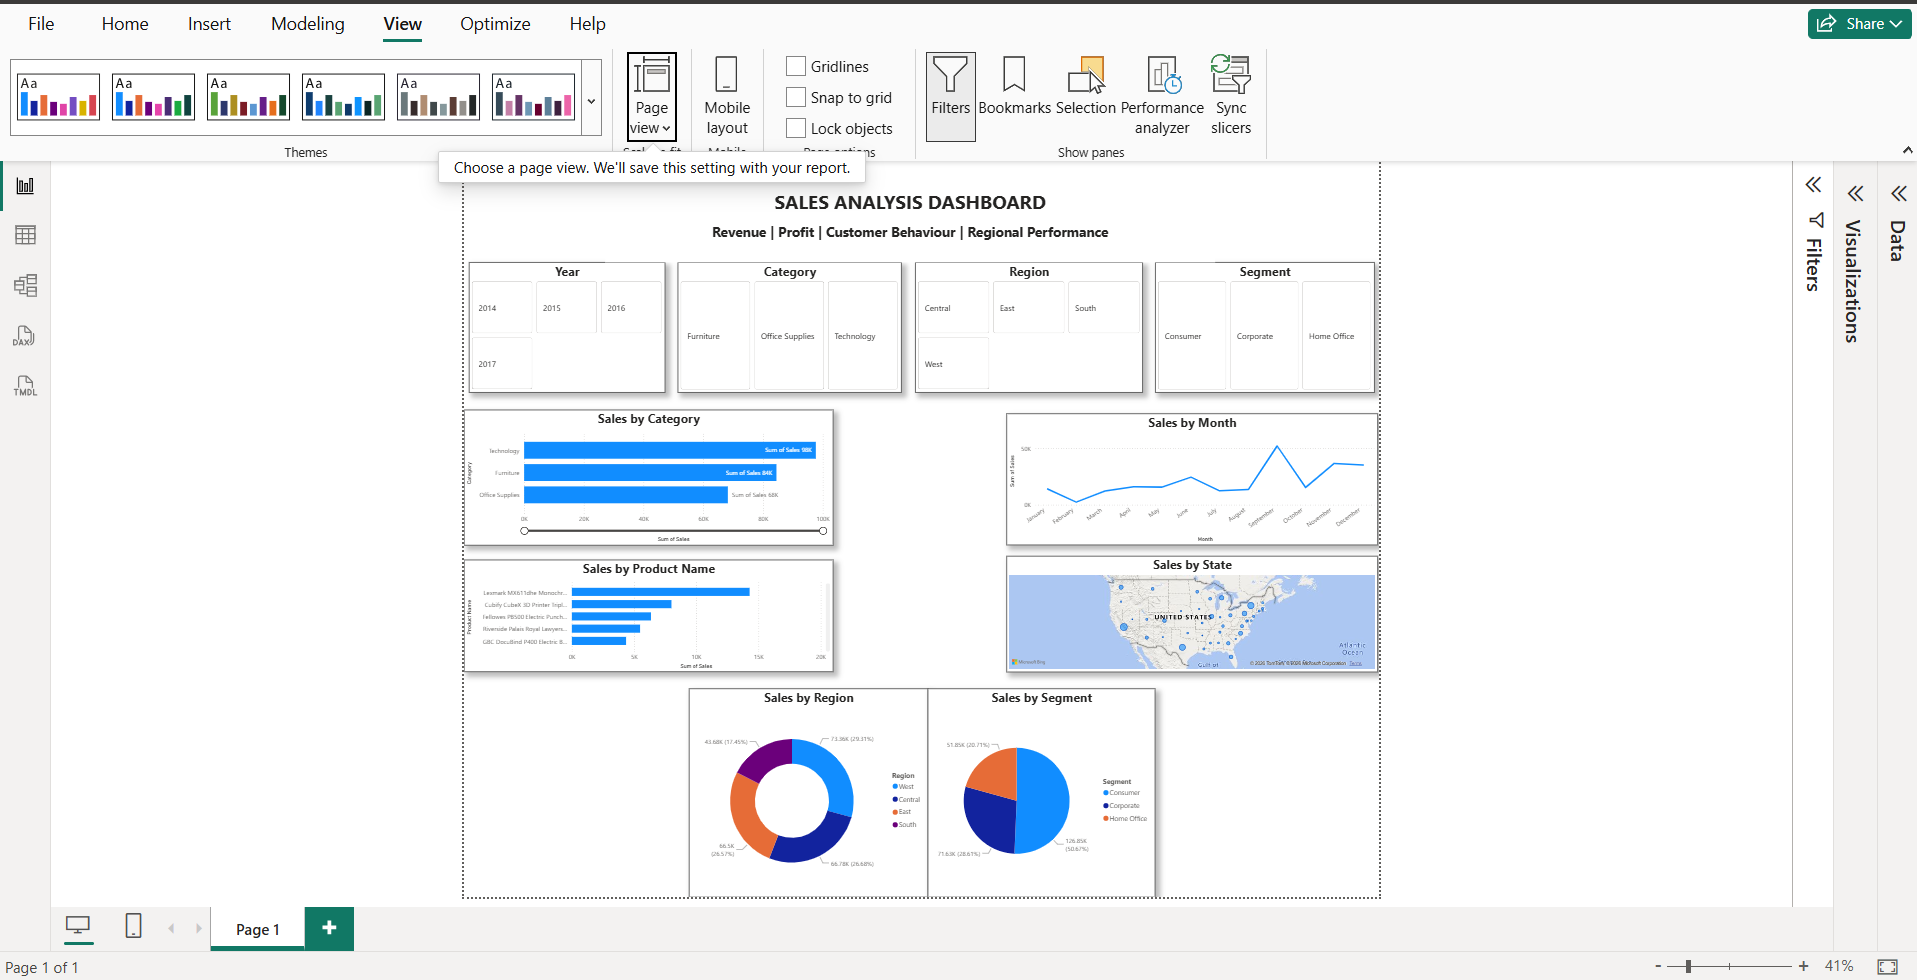

The dashboard page shown, as its layout file describes it:
{"tool":"powerbi","page":{"name":"Page 1","canvas":[1800,1400],"ordinal":0},"visuals":[{"type":"lineChart","title":"Sales by Month","fields":{"Category":["Clean_Orders.Month"],"Y":["Sum(Clean_Orders.Sales)"]},"box":[1069,449,731,259],"z":0},{"type":"clusteredBarChart","title":"Sales by Category","fields":{"Category":["Clean_Orders.Category"],"Y":["Sum(Clean_Orders.Sales)"]},"box":[0,441,727,267],"z":1000},{"type":"donutChart","title":"Sales by Region","fields":{"Category":["Clean_Orders.Region"],"Y":["Sum(Clean_Orders.Sales)"]},"box":[442,989,471,411],"z":3000},{"type":"barChart","title":"Sales by Product Name","fields":{"Category":["Clean_Orders.Product Name"],"Y":["Sum(Clean_Orders.Sales)"]},"box":[0,737,727,221],"z":4000},{"type":"map","title":"Sales by State","fields":{"Category":["Clean_Orders.State"],"Size":["Sum(Clean_Orders.Sales)"]},"box":[1069,729,731,229],"z":5000},{"type":"pieChart","title":"Sales by Segment","fields":{"Category":["Clean_Orders.Segment"],"Y":["Sum(Clean_Orders.Sales)"]},"box":[913,989,448,411],"z":6000},{"type":"advancedSlicerVisual","fields":{"Values":["Clean_Orders.Order Date.Variation.Date Hierarchy.Year"]},"box":[10,150,386,257],"z":7000},{"type":"advancedSlicerVisual","fields":{"Values":["Clean_Orders.Category"]},"box":[420,150,441,257],"z":8000},{"type":"advancedSlicerVisual","fields":{"Values":["Clean_Orders.Region"]},"box":[889,150,448,257],"z":9000},{"type":"advancedSlicerVisual","fields":{"Values":["Clean_Orders.Segment"]},"box":[1361,150,432,257],"z":10000},{"type":"textbox","box":[278,0,1201,150],"z":10001}]}

Visuals, with their boxes on the page's 1800x1400 design canvas (x1, y1, x2, y2). These are canvas units, not pixel positions in the 1917x980 screenshot, which may show the page scaled, cropped or inside an application window:
"Sales by Month" lineChart: detection(1069, 449, 1800, 708)
"Sales by Category" clusteredBarChart: detection(0, 441, 727, 708)
"Sales by Region" donutChart: detection(442, 989, 913, 1400)
"Sales by Product Name" barChart: detection(0, 737, 727, 958)
"Sales by State" map: detection(1069, 729, 1800, 958)
"Sales by Segment" pieChart: detection(913, 989, 1361, 1400)
advancedSlicerVisual - Clean_Orders.Order Date.Variation.Date Hierarchy.Year: detection(10, 150, 396, 407)
advancedSlicerVisual - Clean_Orders.Category: detection(420, 150, 861, 407)
advancedSlicerVisual - Clean_Orders.Region: detection(889, 150, 1337, 407)
advancedSlicerVisual - Clean_Orders.Segment: detection(1361, 150, 1793, 407)
textbox: detection(278, 0, 1479, 150)
